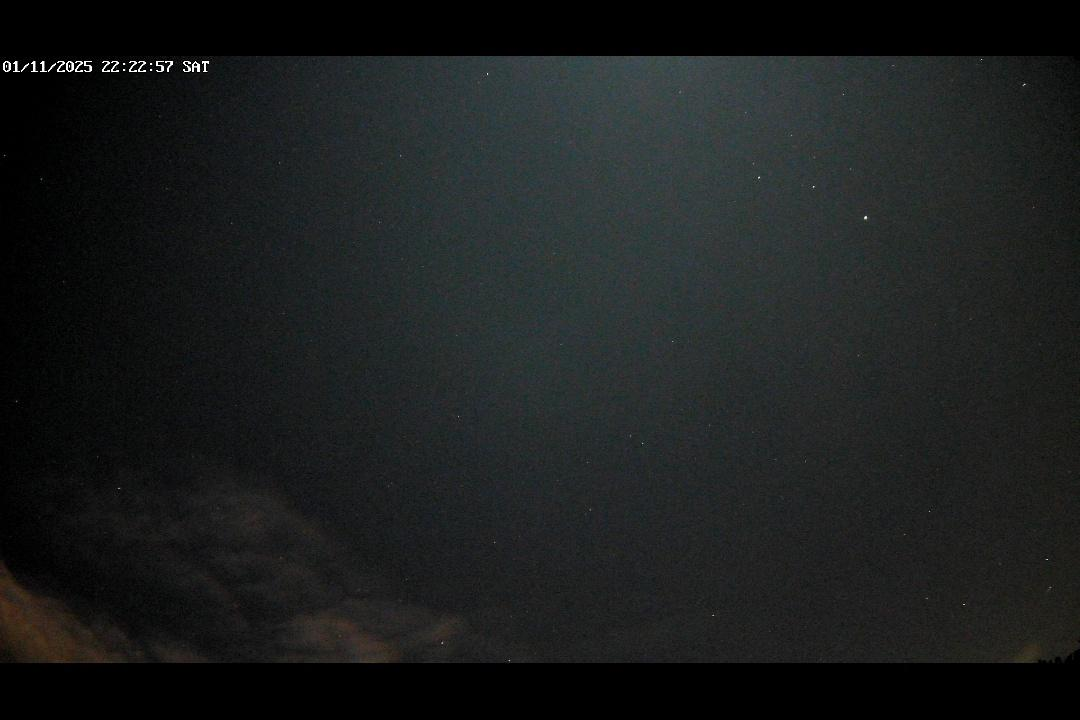Plane: (1034, 581, 1059, 602)
